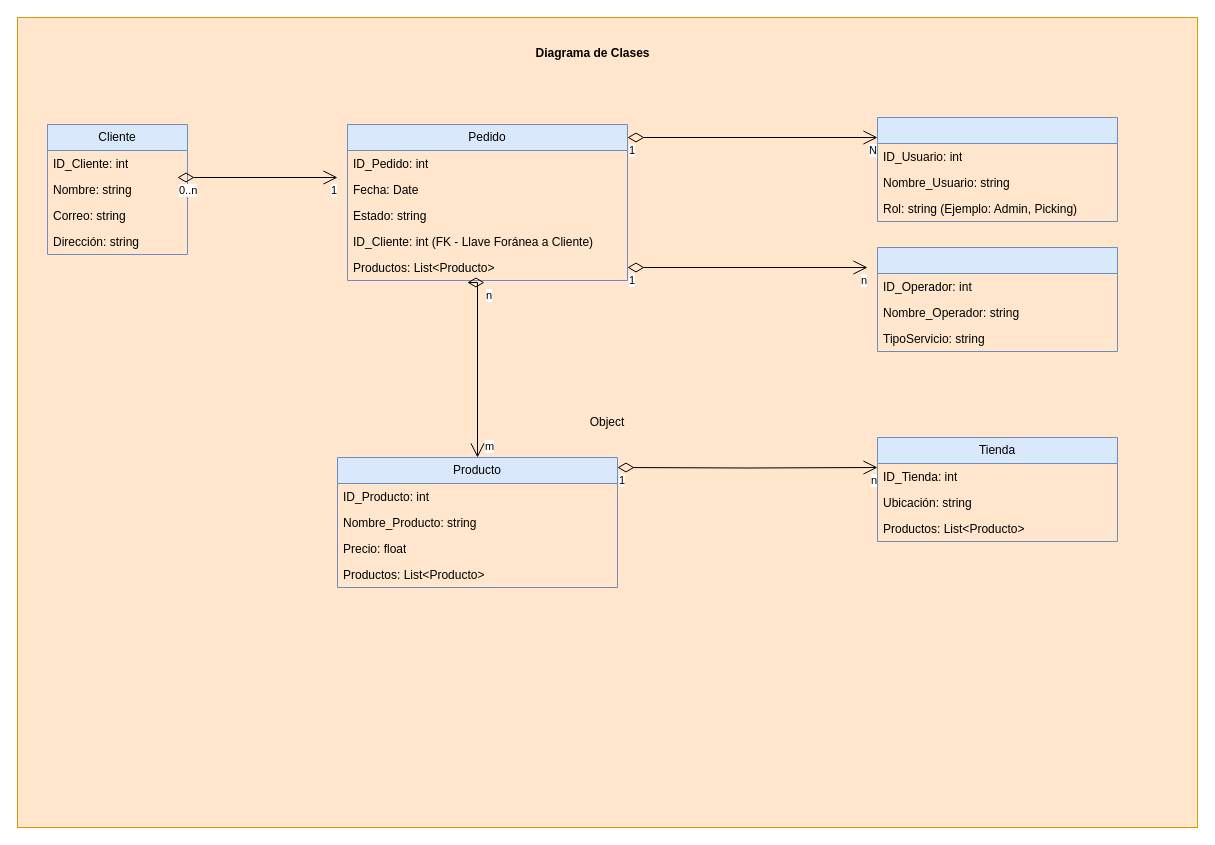
The diagram is 1215 pixels wide and 845 high, and some of its shapes have lost their labels. The shapes that lost their labels are listed below. From the top down, each one's box as (x1, y1, x2, y2) in pixels, then its label:
(876, 116, 1118, 222): UsuarioBackStore
(876, 246, 1118, 352): OperadorLogístico
